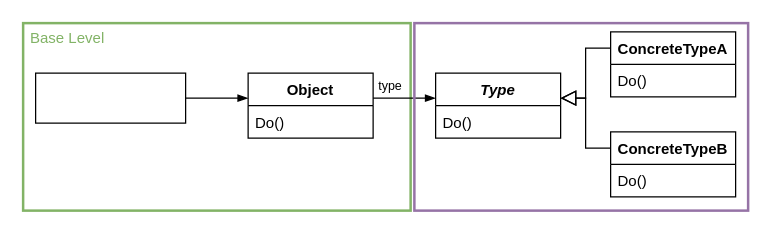
Some shapes in this 770 by 233 pixel diagram are drawn without their labels. The box of each missing label's shape, as (x1, y1, x2, y2) in pixels:
Client: (34, 72, 186, 123)
Meta Level: (412, 21, 749, 211)
